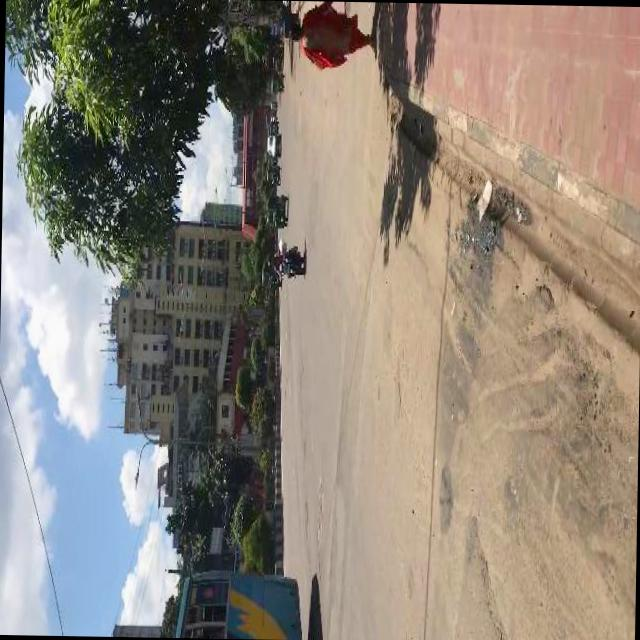bus: (170, 570, 306, 640)
motorcycle: (266, 238, 306, 284), (264, 194, 288, 228), (260, 258, 282, 292), (264, 165, 280, 188), (270, 74, 284, 94), (268, 122, 278, 132)
truck: (265, 134, 280, 160)
